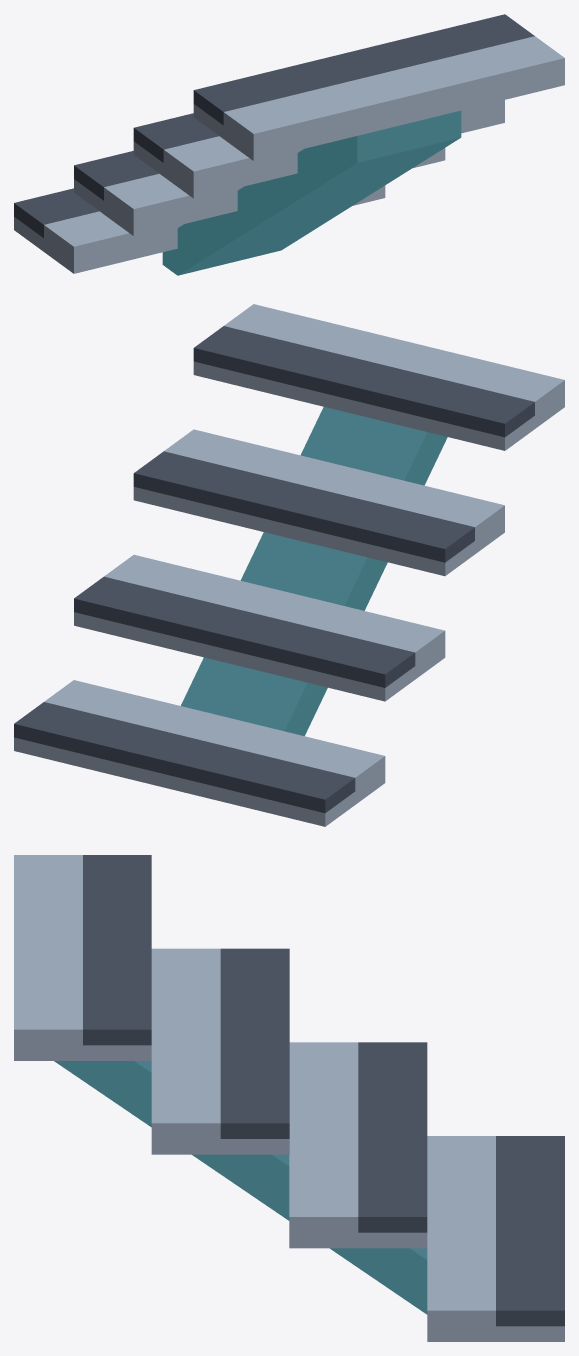
The model's file is stairs_short.glb.
The picture shows the model from 3 angles, top to bottom: view 1: azimuth 30°, elevation 25°; view 2: azimuth 150°, elevation 25°; view 3: azimuth 270°, elevation 25°; orthographic projection. The views are drawn at different scales.
Visible parts, largest first — view 1: stairs_short; view 2: stairs_short; view 3: stairs_short.
Part boxes in pixels (bbox=[...]): stairs_short: bbox=[14, 14, 564, 275]; stairs_short: bbox=[14, 304, 564, 826]; stairs_short: bbox=[14, 855, 564, 1341].
Size of the model in its own units: 0.3 by 0.275 by 0.4.
